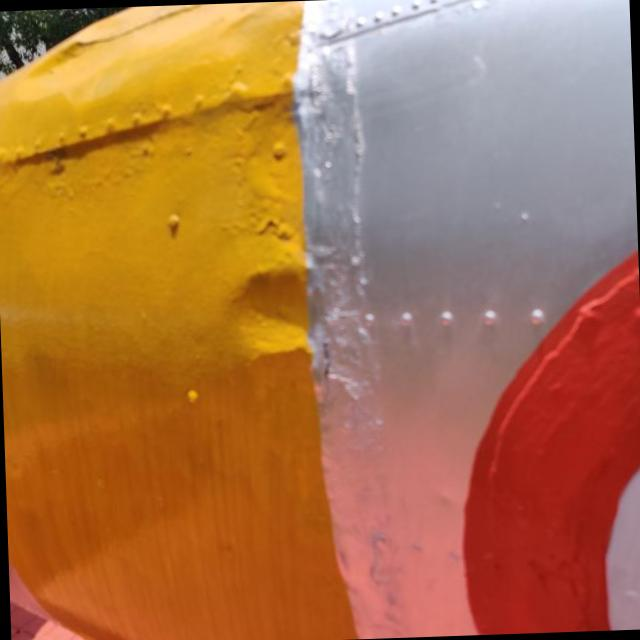Dent: (196, 228, 307, 371)
